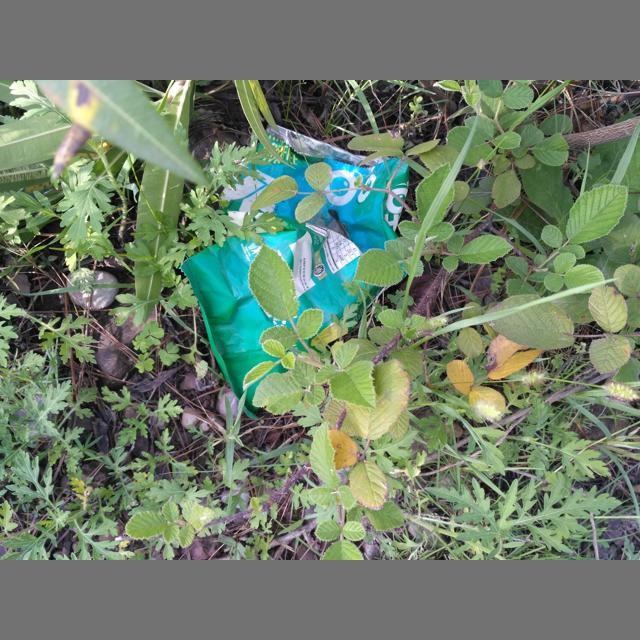litter: (180, 124, 410, 419)
